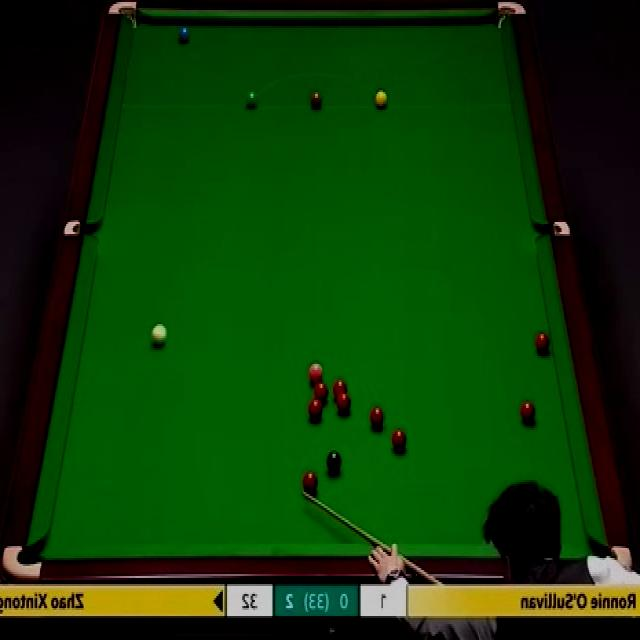pocket: (2, 543, 48, 583), (493, 0, 528, 32), (110, 0, 139, 31), (62, 215, 102, 237), (533, 220, 572, 238)
